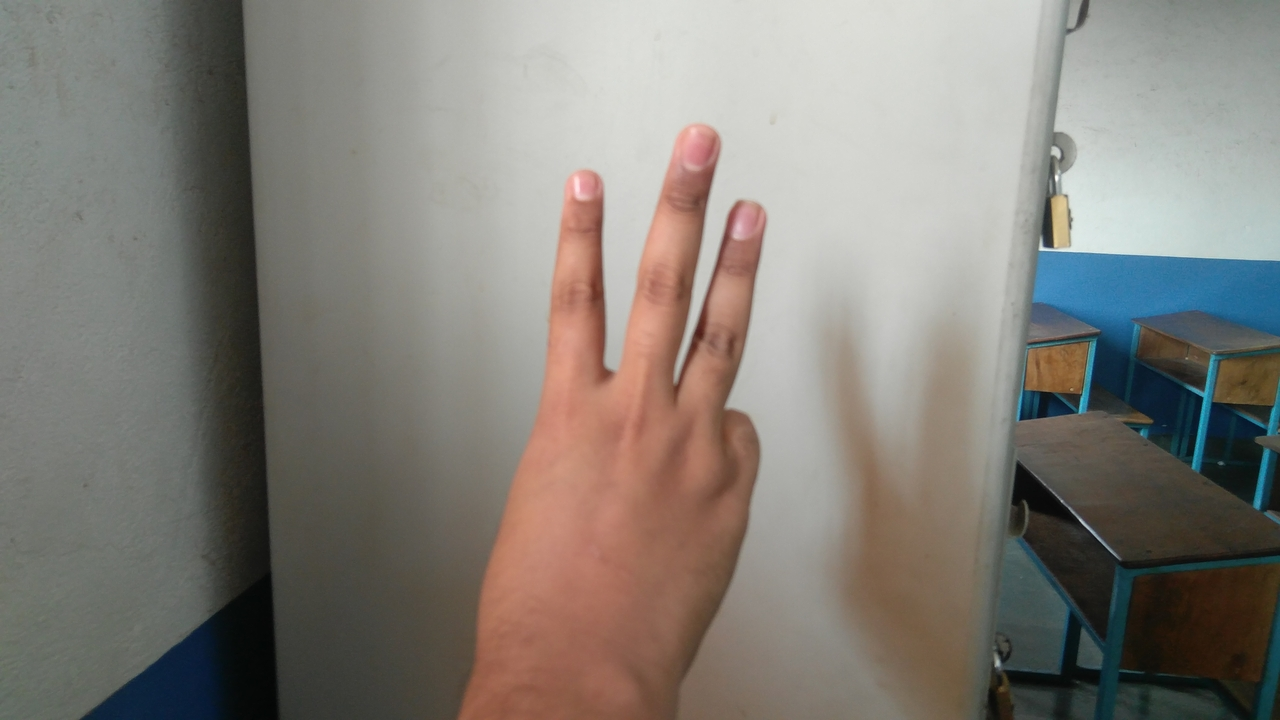fingertip: (716, 188, 778, 248), (662, 118, 728, 172), (552, 158, 612, 212)
